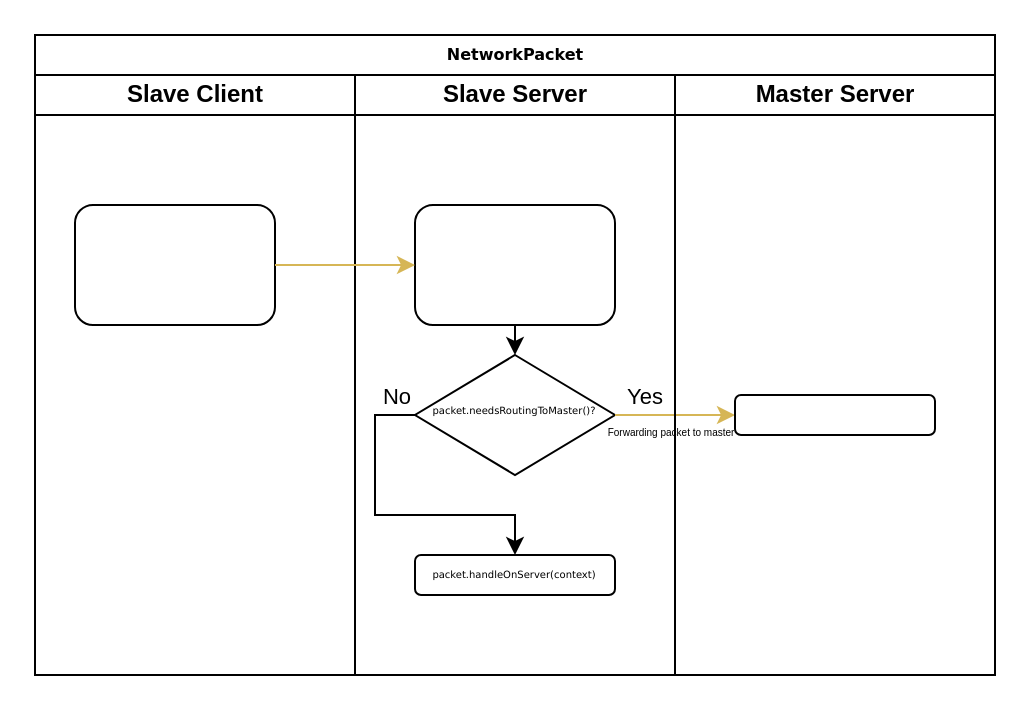
This 1030x710 diagram has some shape labels left out. Here are the shapes that lost their labels. From the top down, the centre of each, then its label:
At (x=174, y=264): "NetworkManager. sendToServer(packet)".
At (x=514, y=264): "NetworkPacketHandler. handleServer(packet, context)".
At (x=834, y=414): "packet.handleOnMaster(context)".
